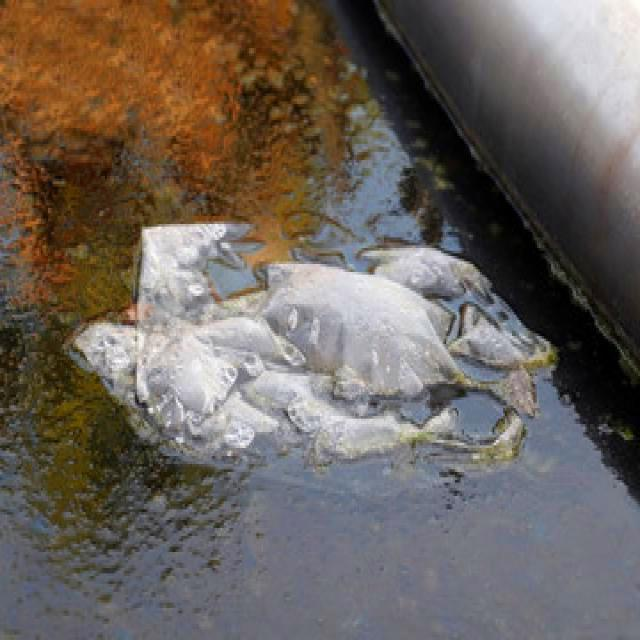Trash: (77, 214, 564, 481)
